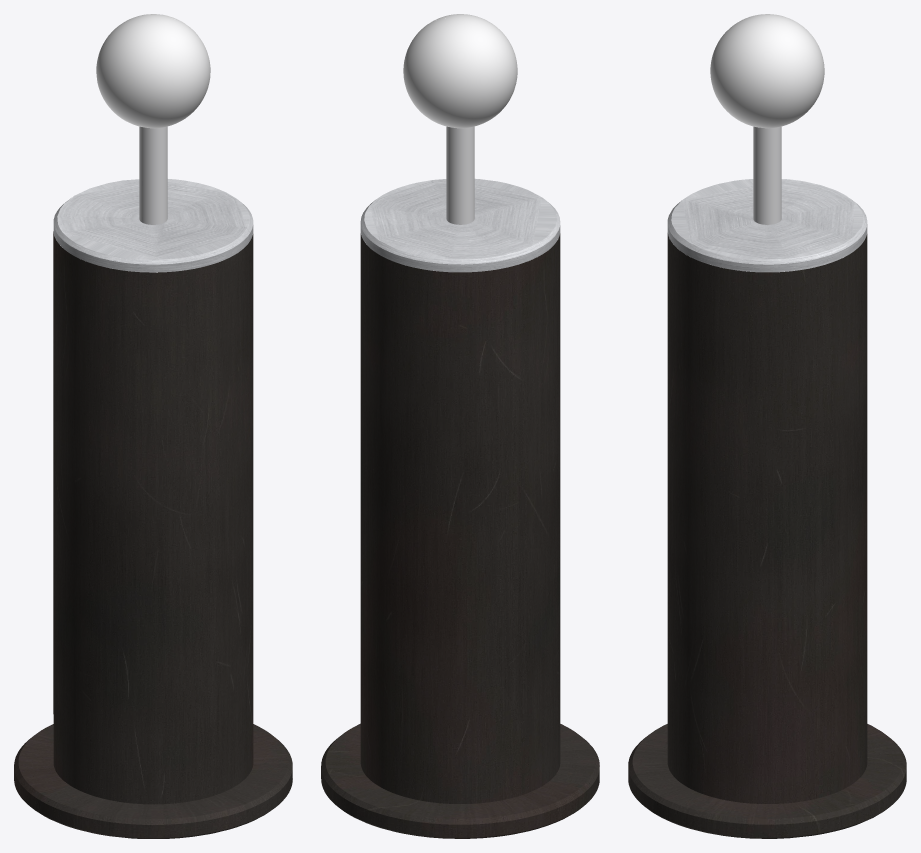
Rendered from king-black.glb.
The picture shows the model from 3 angles, left to right: view 1: azimuth 30°, elevation 25°; view 2: azimuth 150°, elevation 25°; view 3: azimuth 270°, elevation 25°; orthographic projection.
Parts seen in each view (by area): view 1: ferro-orbis_king_black; view 2: ferro-orbis_king_black; view 3: ferro-orbis_king_black.
Boxes of the visible parts, x1=… form: ferro-orbis_king_black: x1=14, y1=14, x2=292, y2=838; ferro-orbis_king_black: x1=321, y1=14, x2=599, y2=838; ferro-orbis_king_black: x1=628, y1=14, x2=906, y2=838.
Bounding box in the file's own units: 0.5467 × 1.65 × 0.5467.
4 materials, 2 textured.
